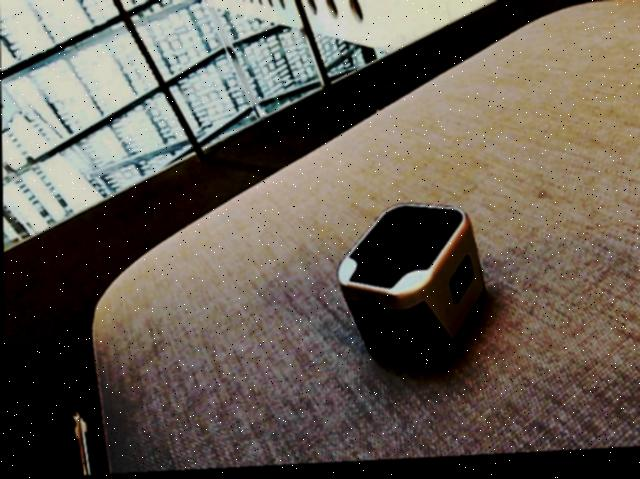adapter: (335, 202, 486, 376)
